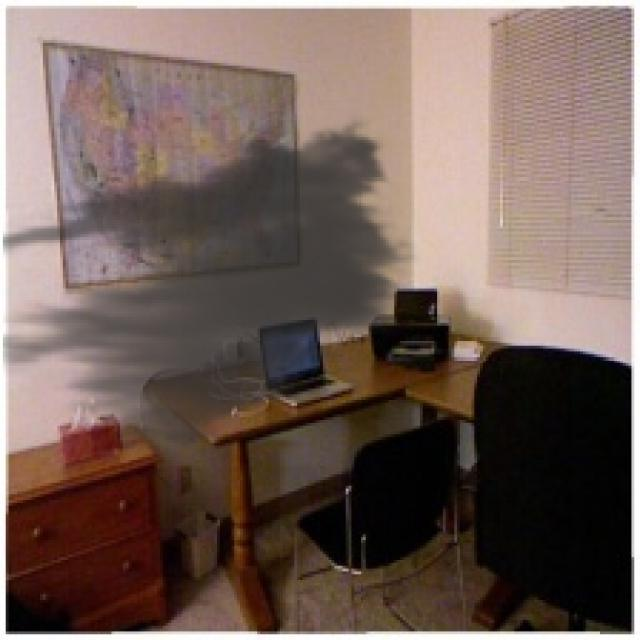smoke: (3, 112, 423, 457)
